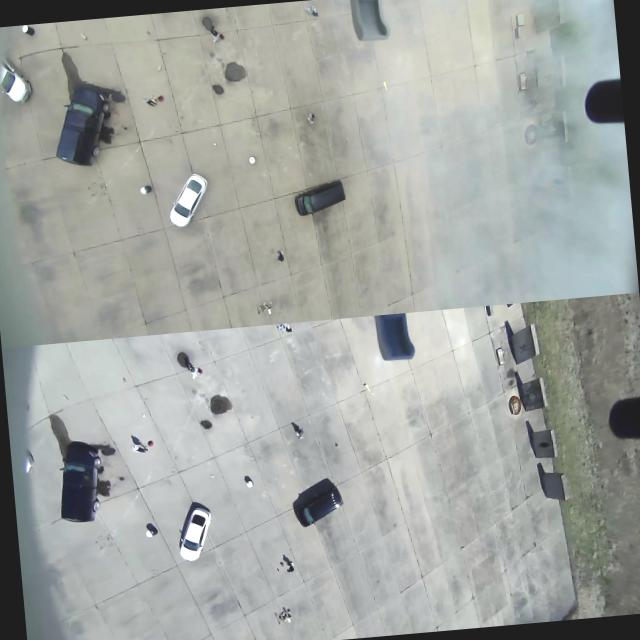car: (288, 474, 359, 536), (283, 182, 360, 222), (176, 498, 216, 562), (168, 170, 210, 229), (0, 58, 33, 108)
truck: (51, 82, 118, 184), (48, 428, 106, 538)
